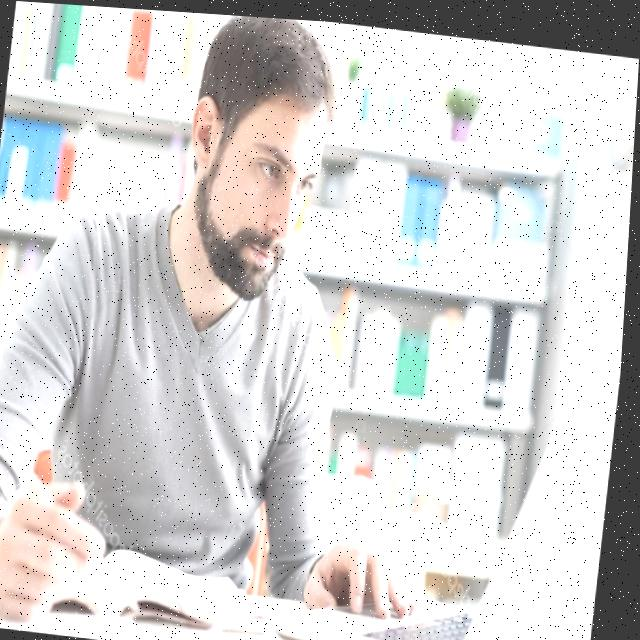studying-person: (0, 10, 483, 633)
